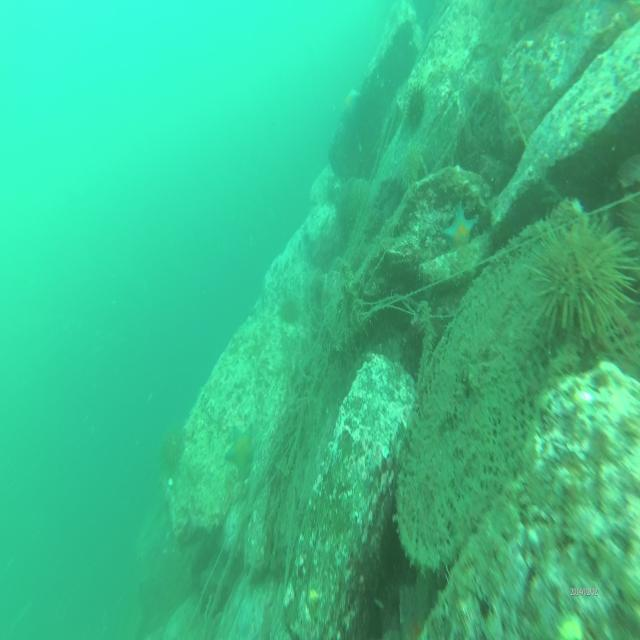echinus: (533, 215, 636, 355), (394, 142, 424, 194), (156, 433, 183, 471), (408, 89, 424, 126), (278, 299, 300, 322)
starfish: (441, 198, 478, 258), (226, 424, 260, 464)
